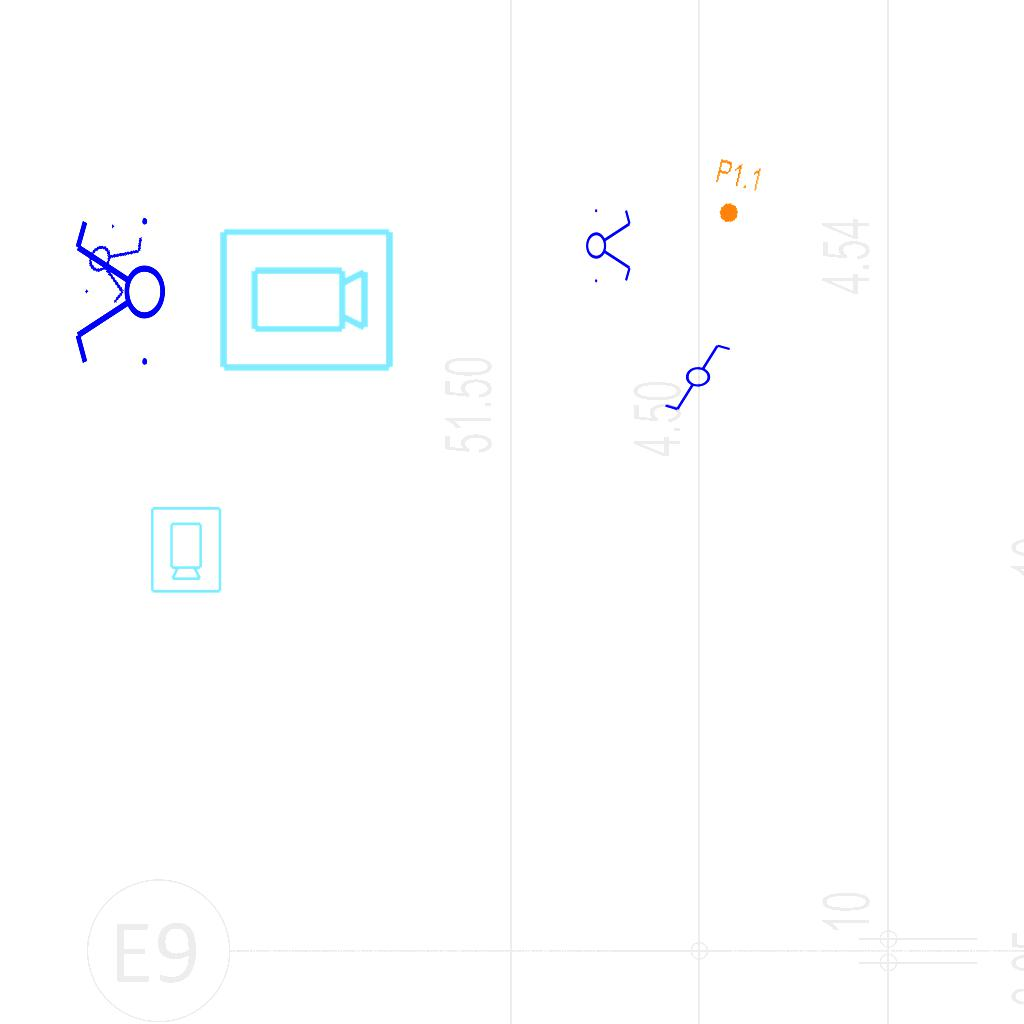Downlight_LED_Einbauleuchten_Flur: (705, 156, 765, 230)
KFO_Kamera_mit_Festobjektiv: (215, 224, 397, 378), (147, 504, 224, 595)
Serienschalter: (71, 209, 167, 377), (74, 215, 150, 311), (585, 203, 633, 287)
Wechselschalter: (663, 342, 741, 414)
